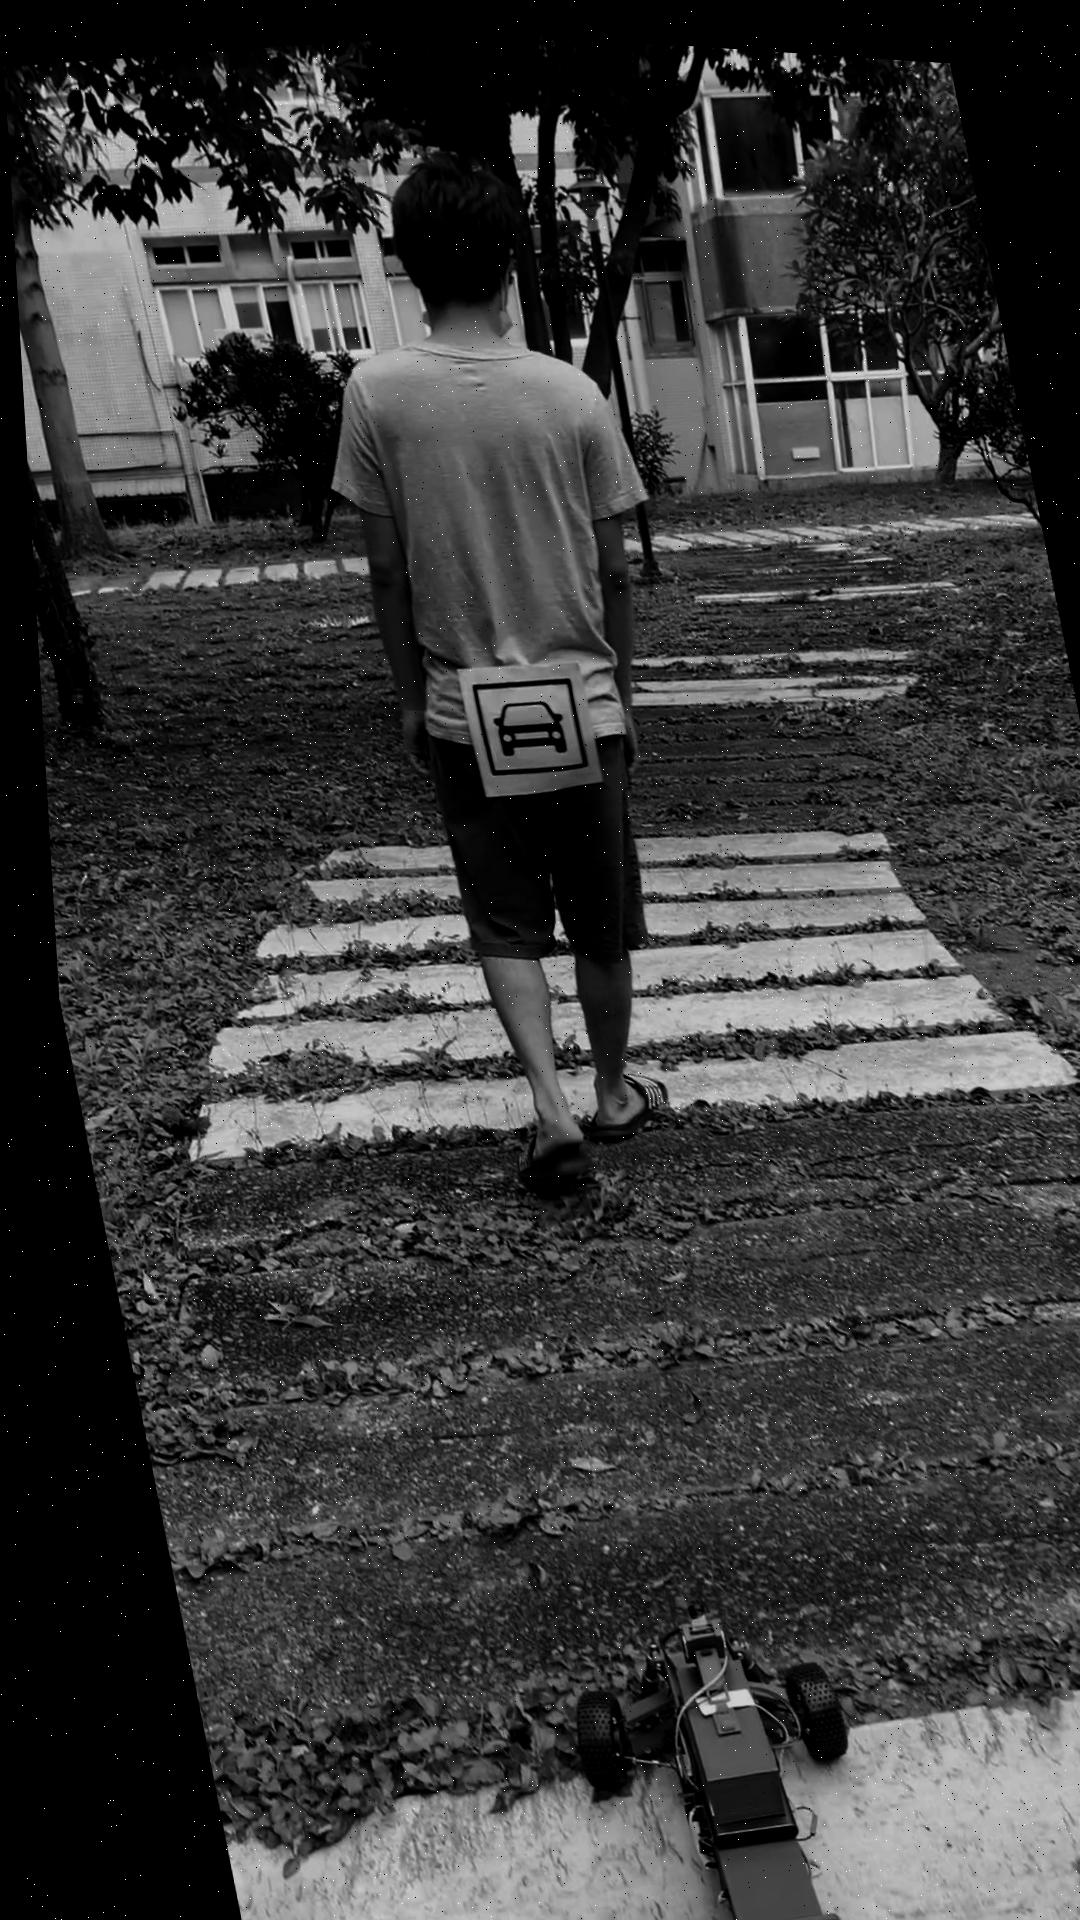car_img: (462, 662, 580, 775)
